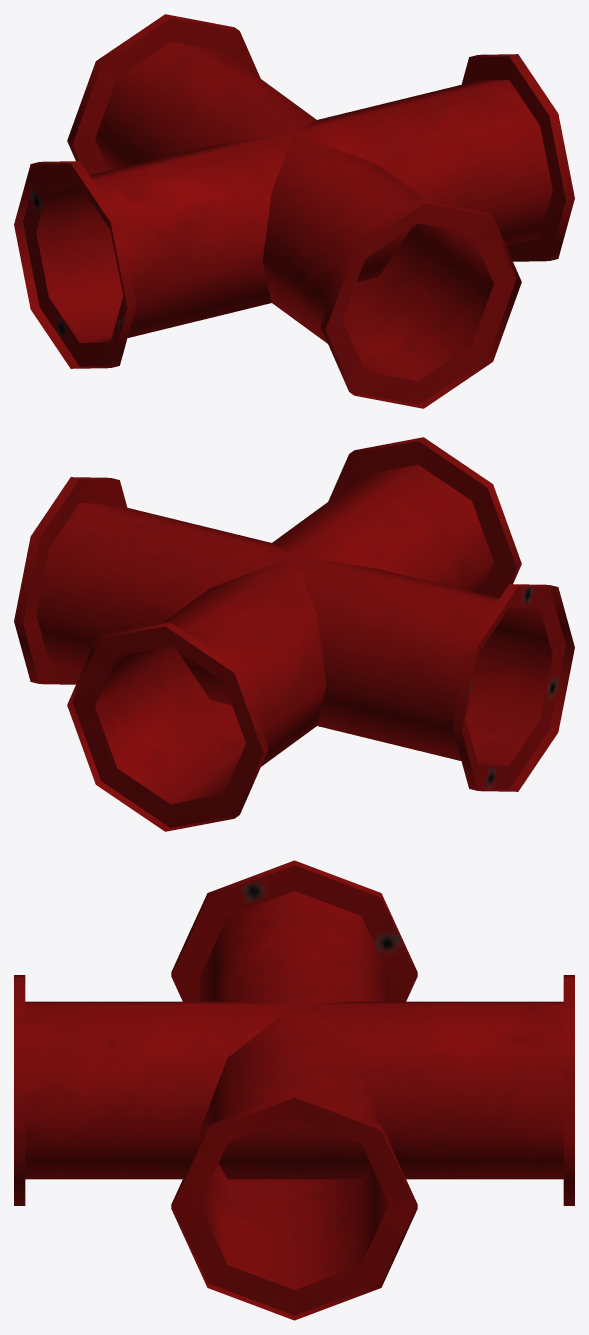
Rendered from PipeBig_X.FBX.
The picture shows the model from 3 angles, top to bottom: view 1: azimuth 30°, elevation 25°; view 2: azimuth 150°, elevation 25°; view 3: azimuth 270°, elevation 25°; orthographic projection. The views are drawn at different scales.
Parts seen in each view (by area): view 1: PipeBig_X; view 2: PipeBig_X; view 3: PipeBig_X.
Part boxes in pixels (left/top/right/bottom): PipeBig_X: left=14, top=14, right=574, bottom=408; PipeBig_X: left=14, top=437, right=574, bottom=831; PipeBig_X: left=14, top=860, right=574, bottom=1320.
Size of the model in its own units: 11.66 by 5.12 by 11.66.
